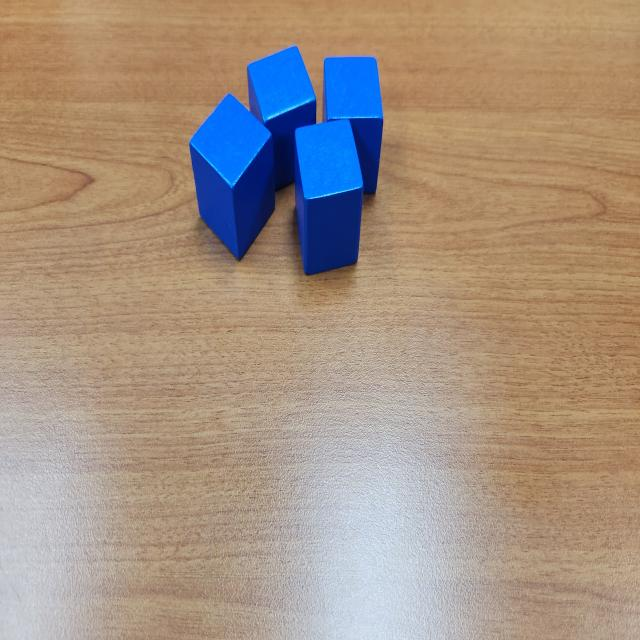blue: (188, 92, 277, 260), (292, 118, 365, 274), (247, 46, 317, 188), (323, 55, 384, 197)
